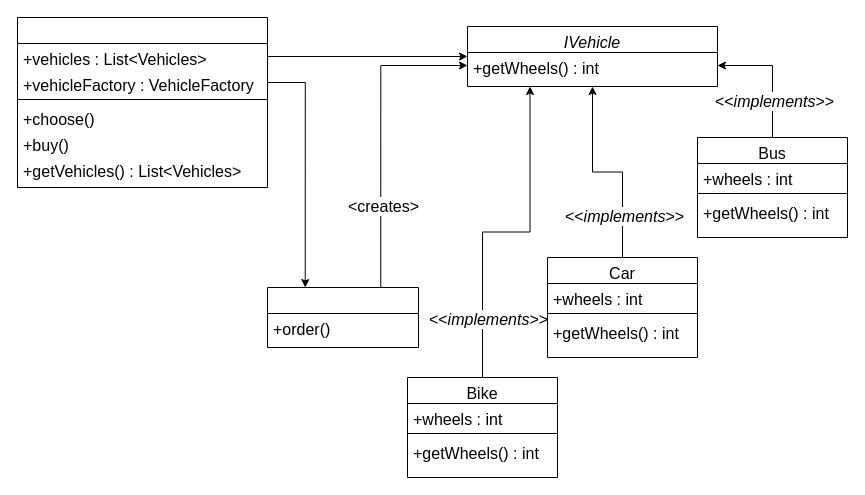
This 865x495 diagram has some shape labels left out. Each missing label, with the box of its shape:
Garage: (16, 16, 268, 188)
VehicleFactory: (266, 286, 418, 348)
